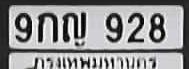2: (127, 12, 143, 42)
8: (148, 12, 164, 42)
9: (105, 12, 122, 42), (14, 12, 31, 41)
A01: (37, 10, 57, 42)
A13: (62, 11, 86, 42)
BKK: (29, 52, 160, 69)
